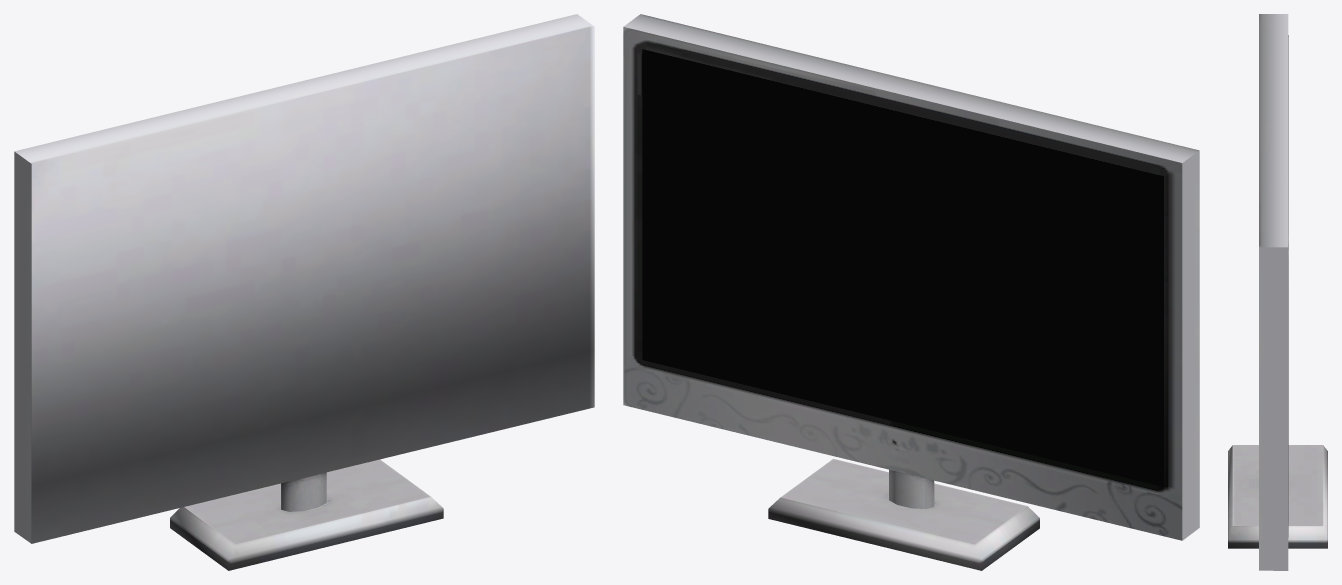
The model's file is furni_0200474.FBX.
3 views of the same model, side by side, from view 1: azimuth 30°, elevation 25°; view 2: azimuth 150°, elevation 25°; view 3: azimuth 270°, elevation 25° (orthographic). The views are drawn at different scales.
Visible parts, largest first — view 1: furni_0200474; view 2: furni_0200474; view 3: furni_0200474.
Part boxes in pixels (box(x1,y1,x2,y2)): furni_0200474: box(14, 14, 594, 570); furni_0200474: box(623, 14, 1199, 570); furni_0200474: box(1228, 14, 1327, 570).
Bounding box in the file's own units: 90.24 × 67 × 16.29.
Materials: 1 (1 with a texture image).
